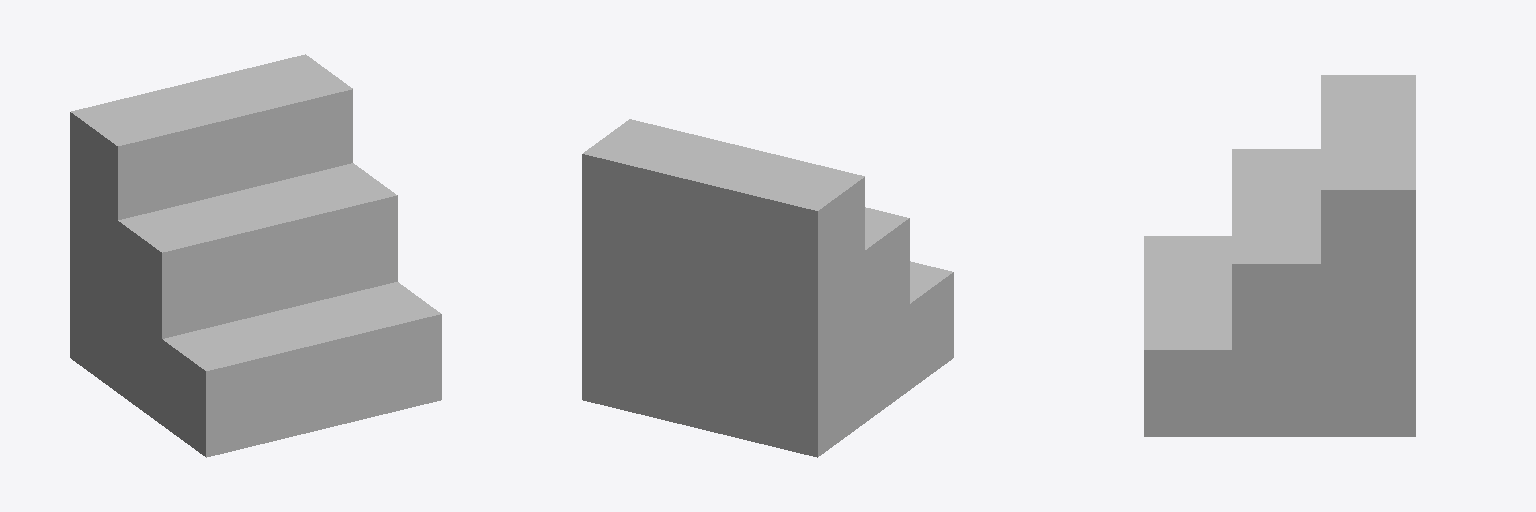
The model's file is stairs.obj.
3 views of the same model, side by side, from view 1: azimuth 30°, elevation 25°; view 2: azimuth 150°, elevation 25°; view 3: azimuth 270°, elevation 25° (orthographic).
Visible parts, largest first — view 1: object 1; view 2: object 1; view 3: object 1.
Part boxes in pixels (left/top/right/bottom): object 1: left=70, top=54, right=441, bottom=457; object 1: left=582, top=119, right=953, bottom=457; object 1: left=1144, top=75, right=1415, bottom=436.
Size of the model in its own units: 4 by 4 by 4.